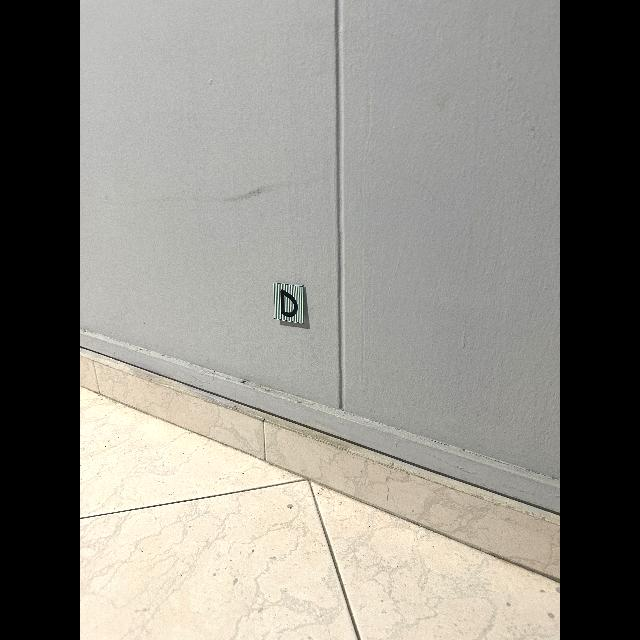D: (280, 290, 298, 317)
